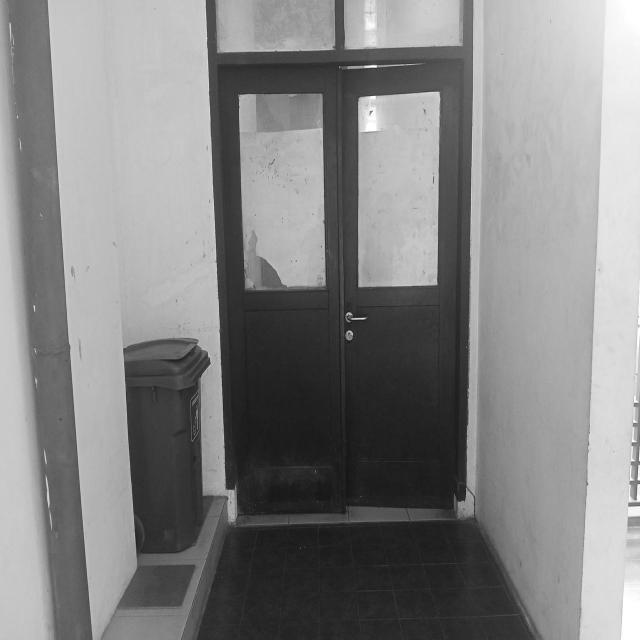door: (215, 62, 470, 520)
